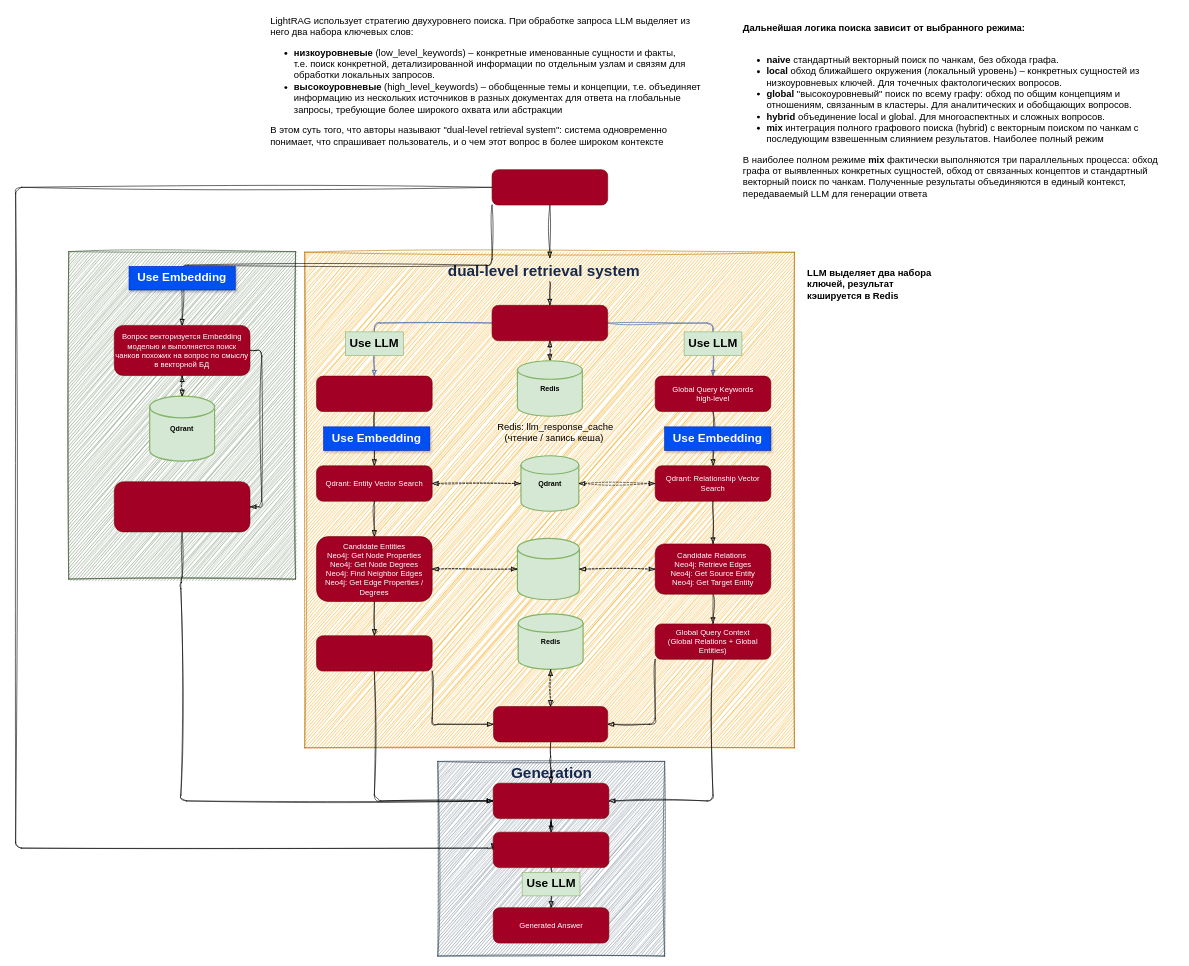
Some shapes in this 1189 by 966 pixel diagram are drawn without their labels. The shapes that lost their labels are listed below. From the top down, each one's centre as x and y in pixels, then its label:
At point 549,187: "User Query".
At point 549,323: "LLM: keywords extraction".
At point 374,394: "Local Query Keywords low-level".
At point 182,506: "Chunk id + content + payload".
At point 548,568: "Ne04j".
At point 374,653: "Local Query Context (Local Entities + Local Relations)".
At point 550,724: "Запрос исходных chunks по chunks ID".
At point 551,801: "Final Retrieved Context Entities + Relations + Chunks + References".
At point 551,850: "LLM: генерация ответа".
